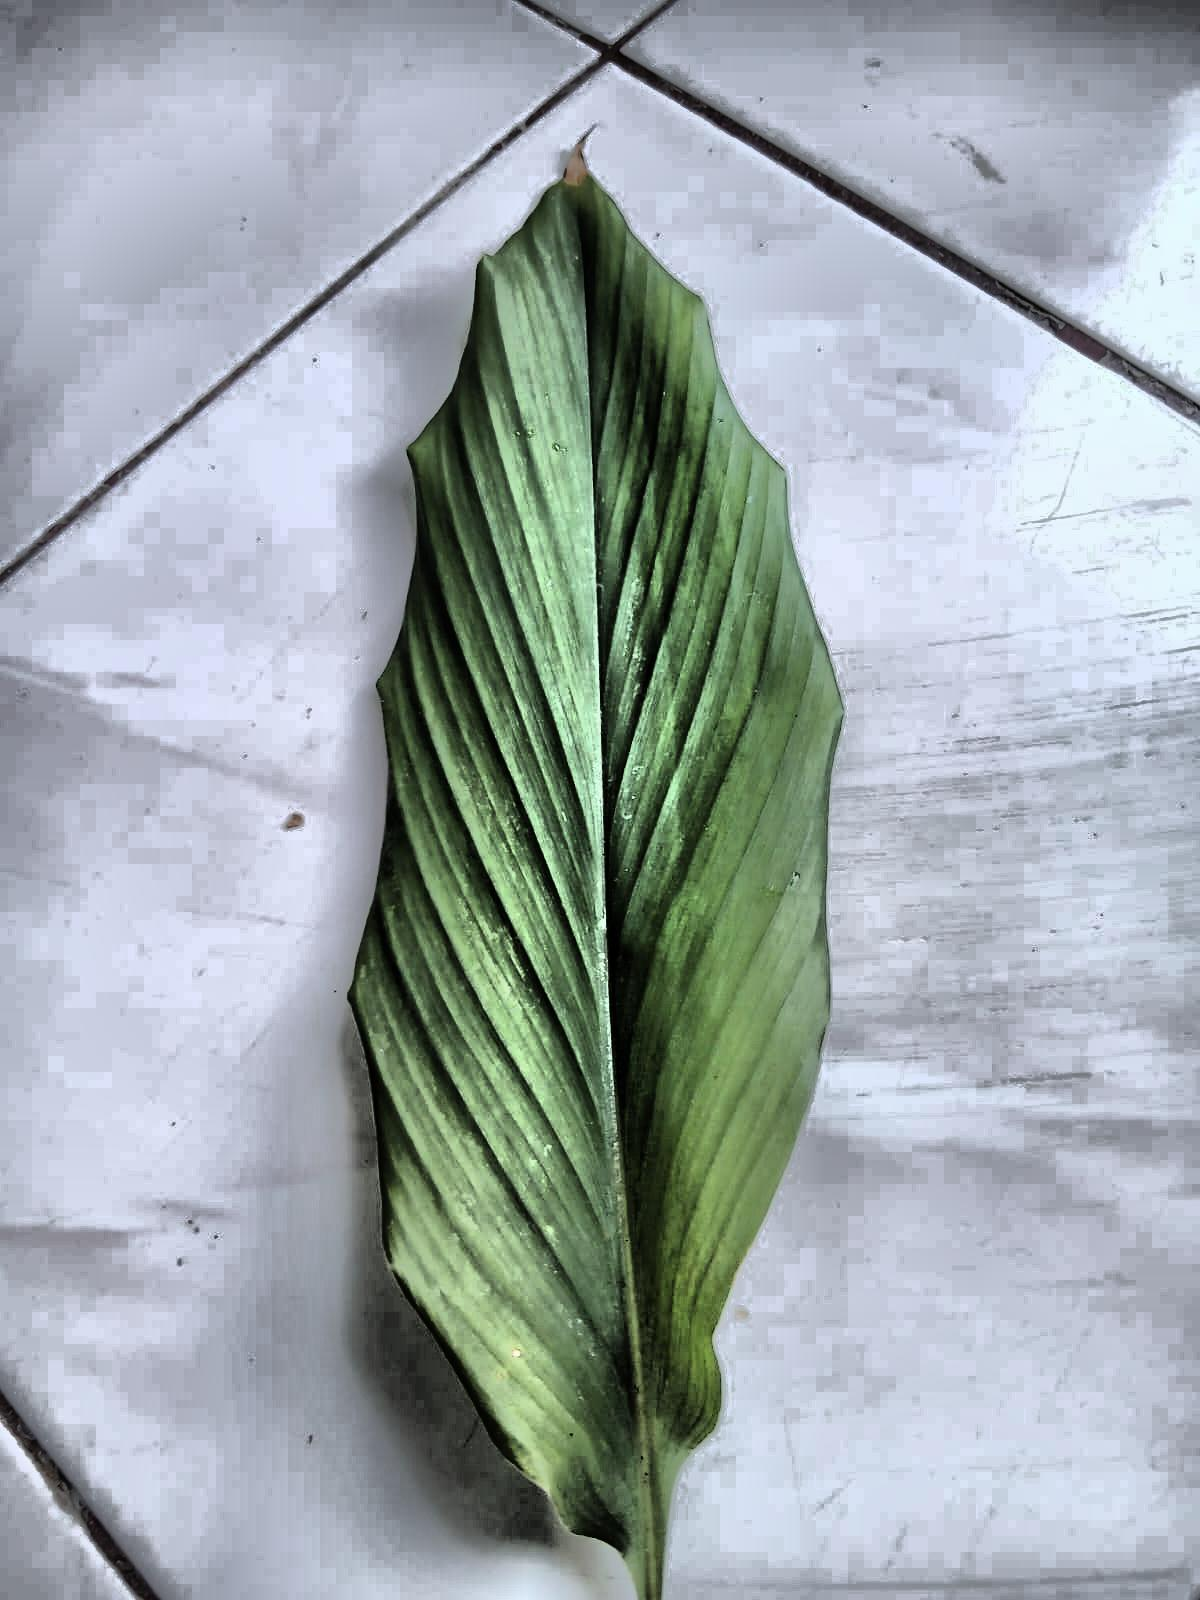daun kunyit: (350, 168, 841, 1599)
